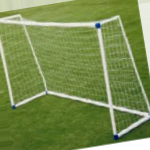goals: (1, 12, 150, 140)
